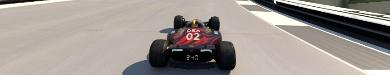Car: (147, 15, 236, 69)
Solid White and black: (232, 0, 389, 74)
curve: (0, 0, 389, 74)
